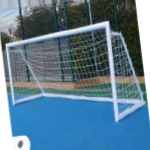goals: (5, 19, 146, 126)
